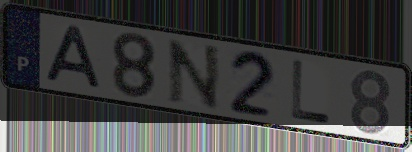2: (225, 47, 281, 123)
8: (110, 30, 158, 100), (348, 67, 393, 137)
A: (43, 23, 106, 92)
L: (290, 58, 334, 128)
N: (165, 37, 223, 112)
